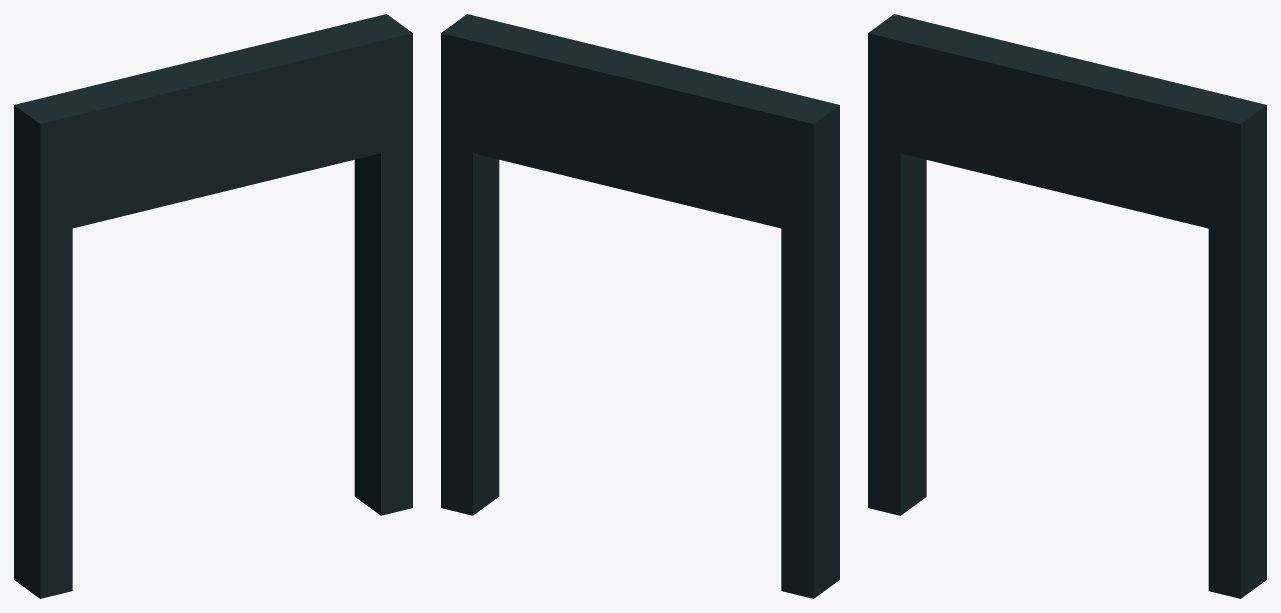
File: gate.fbx
3 views of the same model, side by side, from view 1: azimuth 30°, elevation 25°; view 2: azimuth 150°, elevation 25°; view 3: azimuth 330°, elevation 25° (orthographic).
Visible parts, largest first — view 1: 立方体.001; view 2: 立方体.001; view 3: 立方体.001.
Part boxes in pixels (x1,y1,x2,y2): 立方体.001: [14, 14, 412, 598]; 立方体.001: [441, 14, 839, 598]; 立方体.001: [868, 14, 1266, 598].
Bounding box in the file's own units: 8215 × 10000 × 1000.
